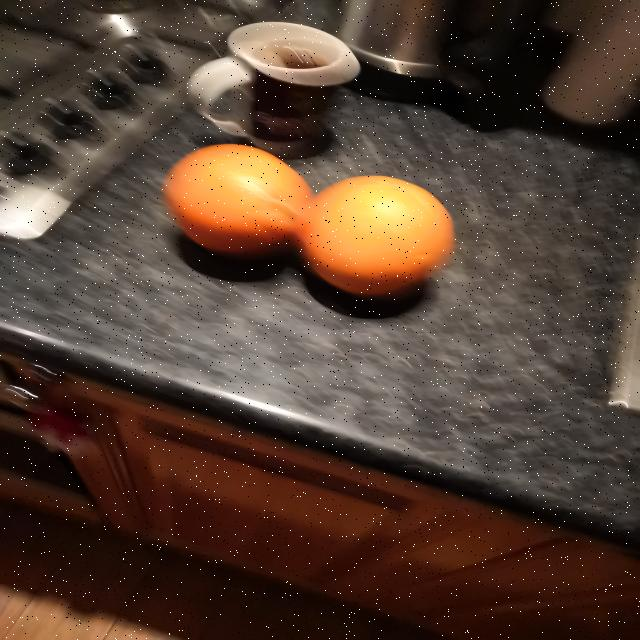orange: (297, 176, 455, 298), (163, 144, 312, 258)
